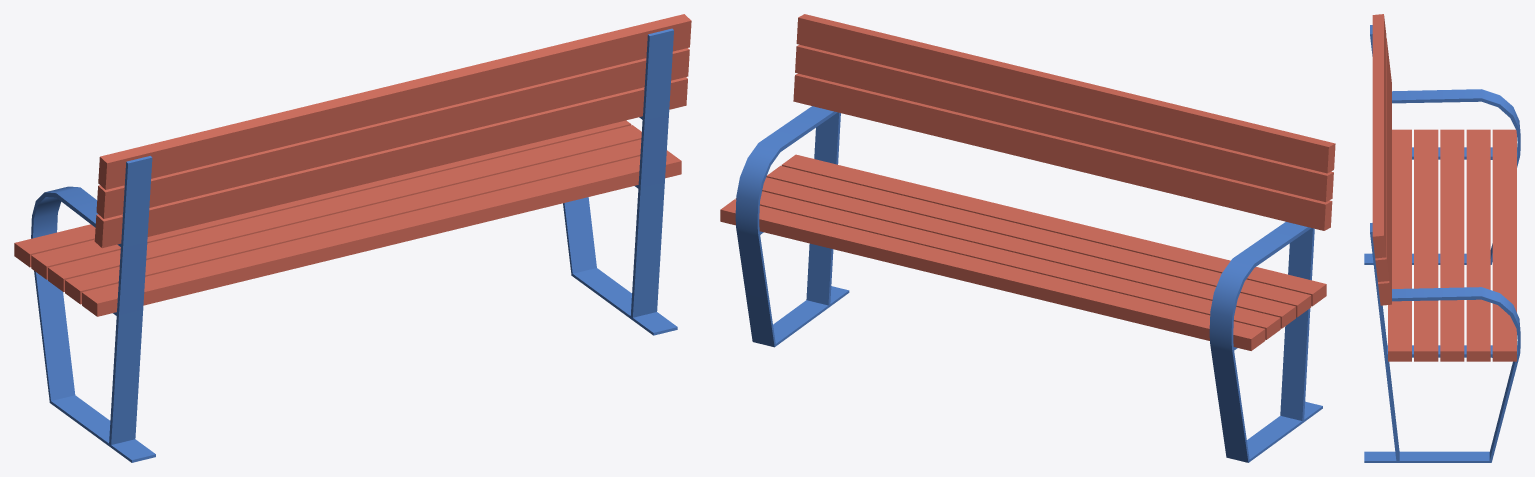
Rendered from Bench_Mesh.fbx.
3 renders of one model, left to right at view 1: azimuth 30°, elevation 25°; view 2: azimuth 150°, elevation 25°; view 3: azimuth 270°, elevation 25°, orthographic. The views are drawn at different scales.
Parts seen in each view (by area): view 1: Bench; view 2: Bench; view 3: Bench.
Boxes of the visible parts, <box> form: Bench: <box>14,14,691,462</box>; Bench: <box>720,14,1335,462</box>; Bench: <box>1364,14,1520,462</box>.
Size of what is drawn, in the model's own units: 200 by 98.67 by 59.71.
